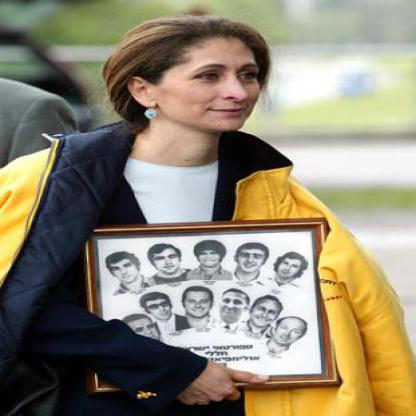face: (149, 21, 278, 135), (277, 318, 304, 348), (222, 290, 248, 321), (112, 254, 139, 283), (240, 245, 267, 273), (255, 299, 281, 328), (188, 289, 213, 319), (156, 246, 182, 274), (200, 242, 223, 269), (151, 294, 172, 321), (281, 256, 303, 279)
